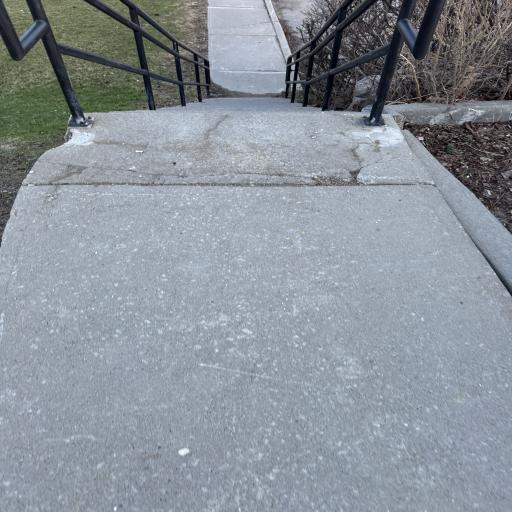Stairs: (0, 98, 512, 512)
